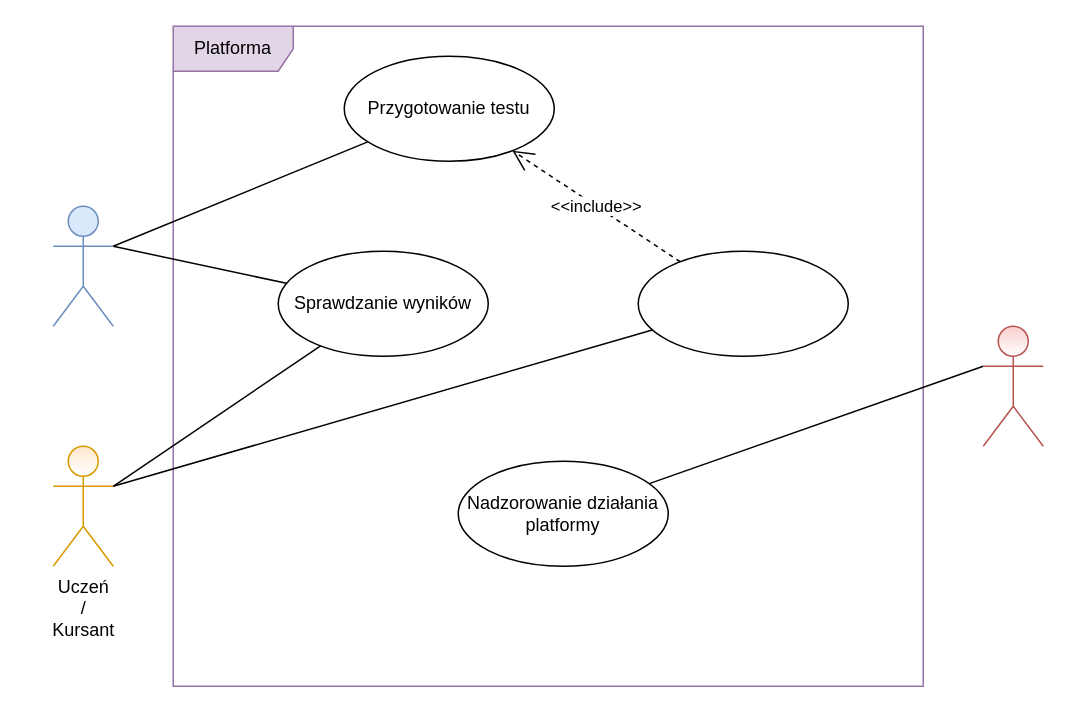
The diagram is 1092 pixels wide and 713 high, and some of its shapes have lost their labels. Here are the shapes that lost their labels. From the top down, the box of each, then its label:
(52, 205, 113, 326): Nauczyciel / Szkoleniowiec
(637, 250, 848, 356): Rozwiązywanie testu
(982, 325, 1043, 446): Administrator
